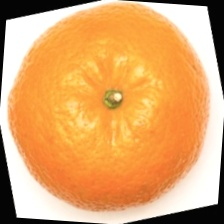orange: (42, 54, 204, 197)
